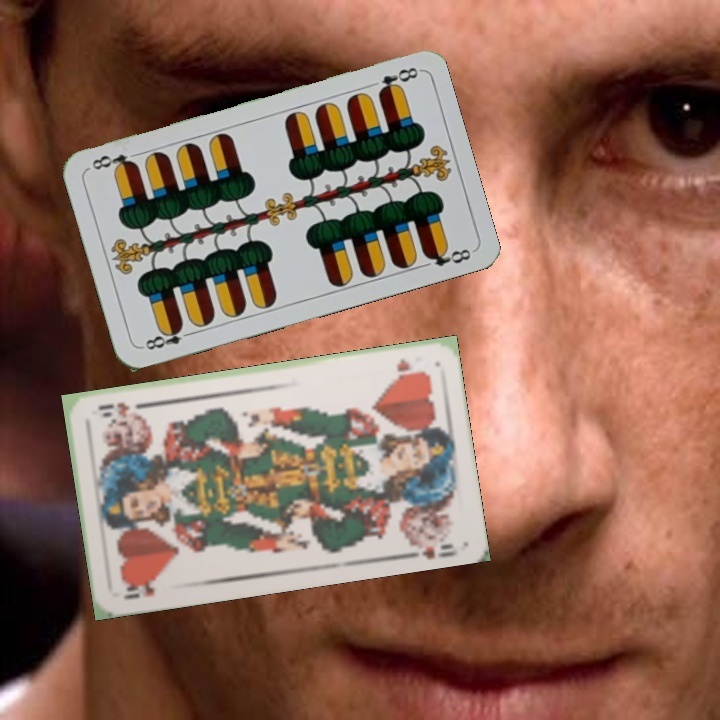E8: (138, 321, 196, 353), (374, 63, 421, 97)
HO: (119, 576, 159, 602), (393, 354, 428, 378)
